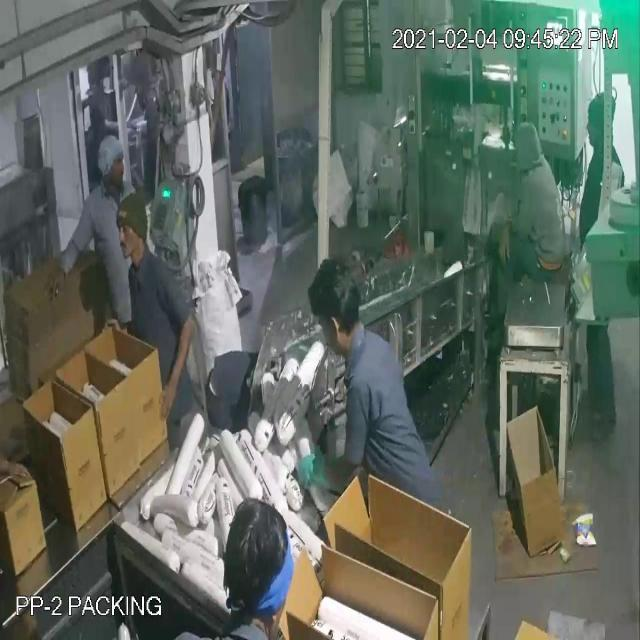No_Gloves: (21, 70, 505, 460)
